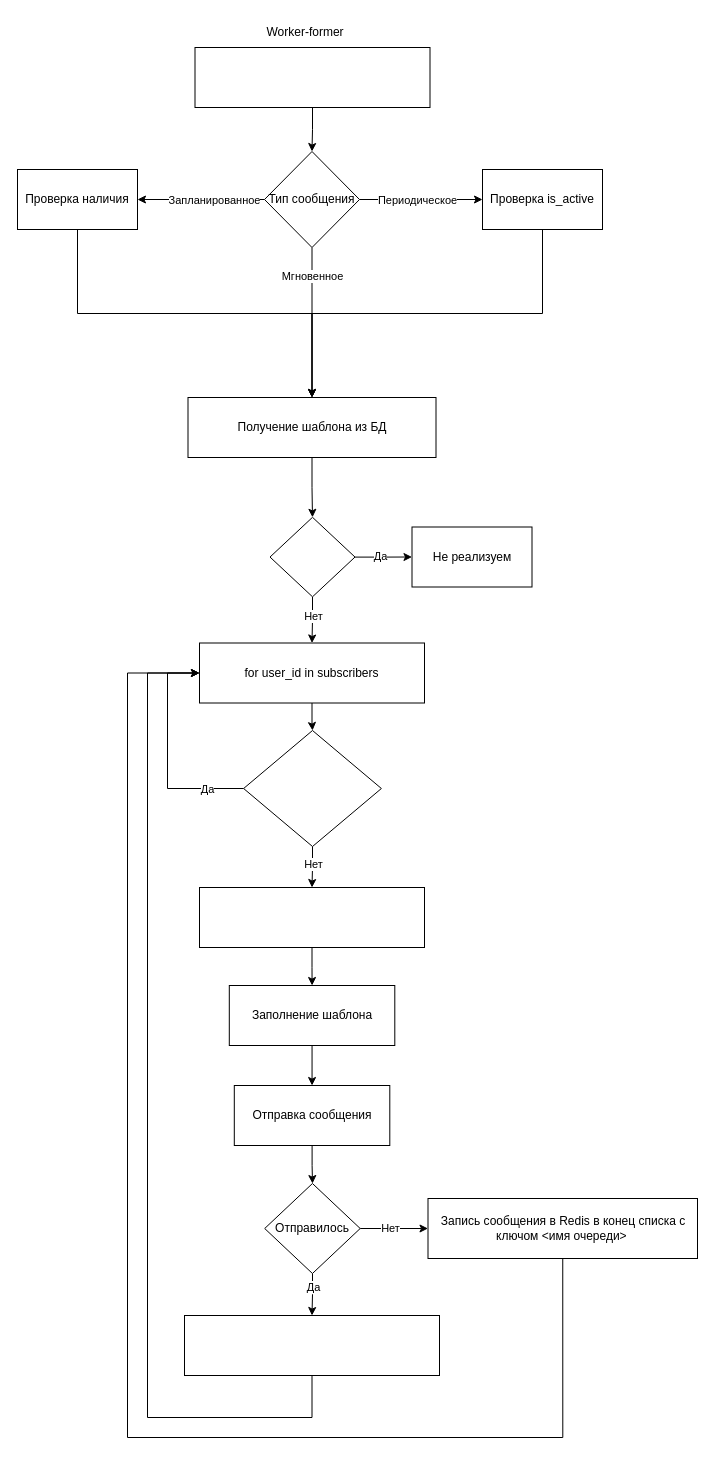
Image size: 715x1463. Some labels were removed from this diagram. The shapes that lost their labels are listed below. From the top down, each one's centre as x and y in pixels, then its label:
(x=312, y=77): Получение сообщения из очереди
(x=312, y=556): Обработка пачкой
(x=312, y=788): Сообщение есть в Redis
(x=311, y=917): Получение данных из Auth-сервиса
(x=312, y=1345): Запись notification_id-user_id в Redis
